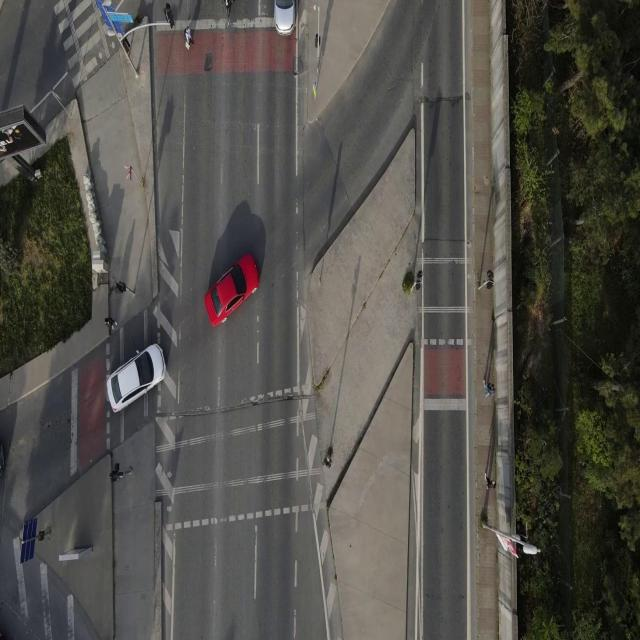p3rson: (183, 25, 196, 52), (483, 378, 496, 401), (104, 314, 117, 332), (484, 473, 496, 491)
